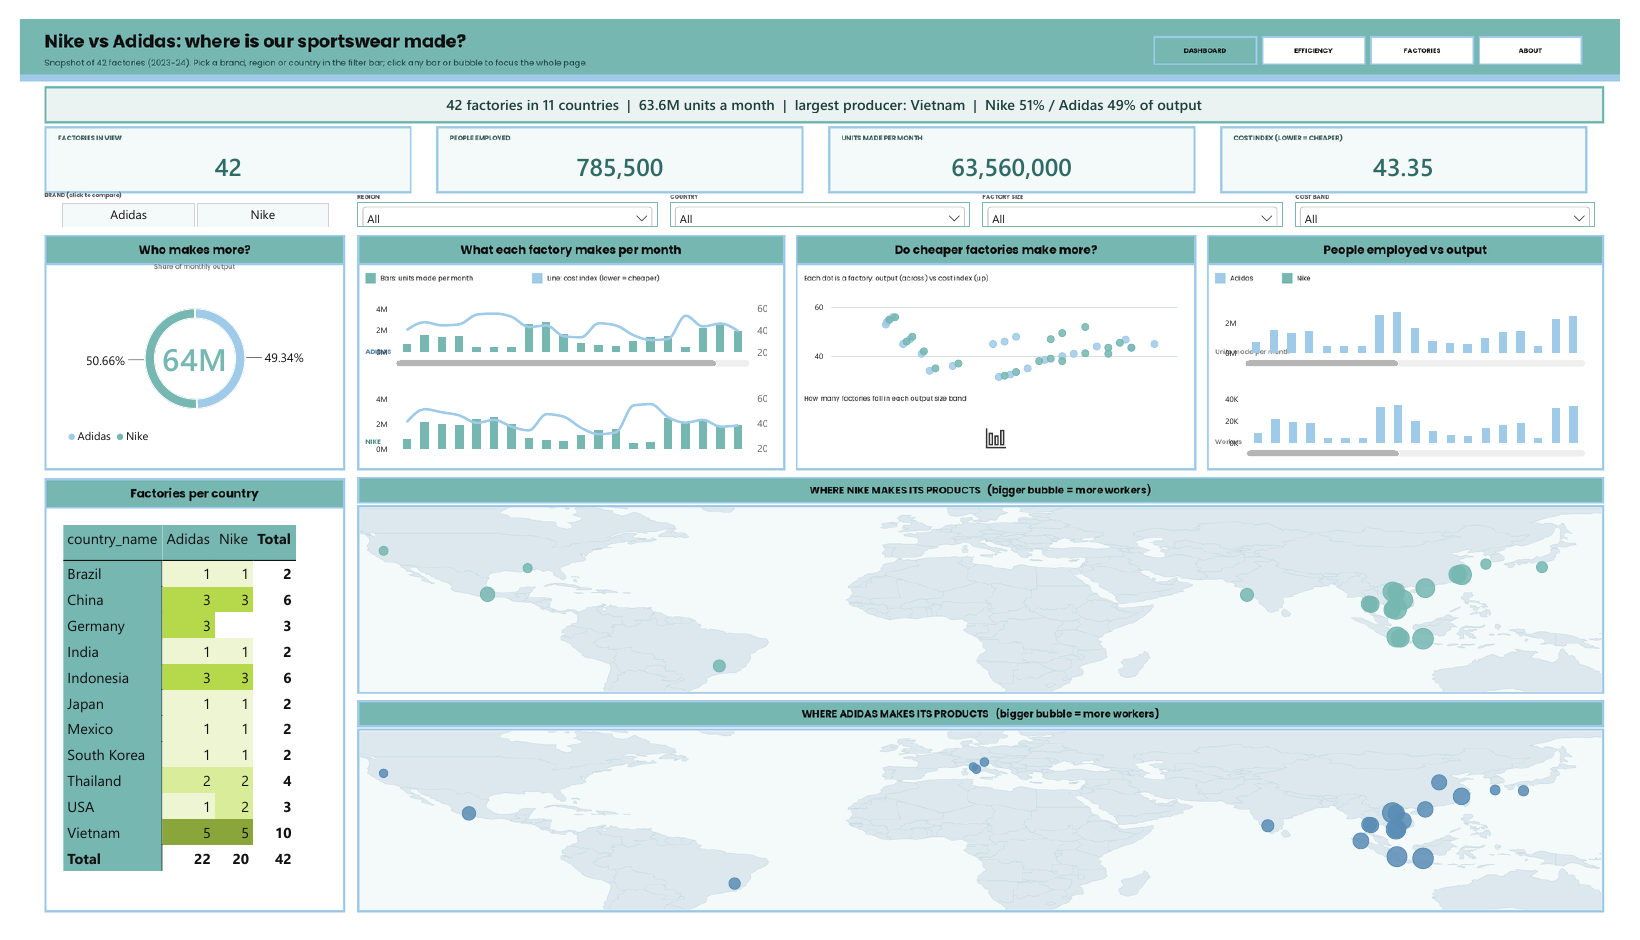

What the dashboard file says about the page in this screenshot:
{"tool":"powerbi","page":{"name":"Dashboard","canvas":[1920,1080],"ordinal":0},"visuals":[{"type":"card","fields":{"Values":["fact_factory_snapshot.Insight Text"]},"box":[40,80,1850,44],"z":1010},{"type":"card","fields":{"Values":["fact_factory_snapshot.Factories"]},"box":[40,150,420,56],"z":1020},{"type":"card","fields":{"Values":["fact_factory_snapshot.Total Workers"]},"box":[510,150,420,56],"z":1030},{"type":"card","fields":{"Values":["fact_factory_snapshot.Monthly Output"]},"box":[980,150,420,56],"z":1040},{"type":"card","fields":{"Values":["fact_factory_snapshot.Avg Cost Index"]},"box":[1450,150,420,56],"z":1050},{"type":"donutChart","fields":{"Category":["dim_brand.brand_name"],"Y":["fact_factory_snapshot.Monthly Output"]},"box":[40,314,340,216],"z":1110},{"type":"lineClusteredColumnComboChart","fields":{"Category":["dim_factory.factory_code"],"Y":["fact_factory_snapshot.Monthly Output"],"Y2":["fact_factory_snapshot.Avg Cost Index"]},"box":[411,324,501,108],"z":1120},{"type":"lineClusteredColumnComboChart","fields":{"Category":["dim_factory.factory_code"],"Y":["fact_factory_snapshot.Monthly Output"],"Y2":["fact_factory_snapshot.Avg Cost Index"]},"box":[411,432,501,108],"z":1130},{"type":"scatterChart","fields":{"Category":["dim_factory.factory_code"],"X":["fact_factory_snapshot.Monthly Output"],"Y":["fact_factory_snapshot.Avg Cost Index"],"Series":["dim_brand.brand_name"]},"box":[937,322,468,128],"z":1140},{"type":"columnChart","fields":{"Category":["fact_factory_snapshot.Output Bin"],"Series":["dim_brand.brand_name"],"Y":["fact_factory_snapshot.Factories"]},"box":[937,470,468,66],"z":1150},{"type":"columnChart","fields":{"Category":["dim_factory.factory_code"],"Series":["dim_brand.brand_name"],"Y":["fact_factory_snapshot.Monthly Output"]},"box":[1430,324,464,108],"z":1160},{"type":"columnChart","fields":{"Category":["dim_factory.factory_code"],"Series":["dim_brand.brand_name"],"Y":["fact_factory_snapshot.Total Workers"]},"box":[1430,432,464,108],"z":1170},{"type":"pivotTable","fields":{"Rows":["dim_country.country_name"],"Columns":["dim_brand.brand_name"],"Values":["fact_factory_snapshot.Factories"]},"box":[36,592,348,472],"z":1180},{"type":"scatterChart","fields":{"Category":["dim_factory.factory_code"],"X":["fact_factory_snapshot.Avg Longitude"],"Y":["fact_factory_snapshot.Avg Latitude"],"Size":["fact_factory_snapshot.Total Workers"]},"box":[408,585,1489,220],"z":1190},{"type":"scatterChart","fields":{"Category":["dim_factory.factory_code"],"X":["fact_factory_snapshot.Avg Longitude"],"Y":["fact_factory_snapshot.Avg Latitude"],"Size":["fact_factory_snapshot.Total Workers"]},"box":[408,853,1489,214],"z":1200},{"type":"slicer","fields":{"Values":["dim_brand.brand_name"]},"box":[30,218,360,30],"z":7005},{"type":"slicer","fields":{"Values":["dim_country.region"]},"box":[405,218,360,30],"z":7006},{"type":"slicer","fields":{"Values":["dim_country.country_name"]},"box":[780,218,360,30],"z":7007},{"type":"slicer","fields":{"Values":["fact_factory_snapshot.size_tier"]},"box":[1155,218,360,30],"z":7008},{"type":"slicer","fields":{"Values":["fact_factory_snapshot.cost_band"]},"box":[1530,218,360,30],"z":7009},{"type":"actionButton","box":[1360,20,124,34],"z":9020},{"type":"actionButton","box":[1490,20,124,34],"z":9021},{"type":"actionButton","box":[1620,20,124,34],"z":9022},{"type":"actionButton","box":[1750,20,124,34],"z":9023}]}

Visuals, with their boxes in screenshot pixels (x1, y1, x2, y2), scaled from the page's 1920x1080 canvas onto the 1640x940 screenshot:
card - fact_factory_snapshot.Insight Text: (left=34, top=70, right=1614, bottom=108)
card - fact_factory_snapshot.Factories: (left=34, top=131, right=393, bottom=179)
card - fact_factory_snapshot.Total Workers: (left=436, top=131, right=794, bottom=179)
card - fact_factory_snapshot.Monthly Output: (left=837, top=131, right=1196, bottom=179)
card - fact_factory_snapshot.Avg Cost Index: (left=1239, top=131, right=1597, bottom=179)
donutChart - dim_brand.brand_name x fact_factory_snapshot.Monthly Output: (left=34, top=273, right=325, bottom=461)
lineClusteredColumnComboChart - dim_factory.factory_code x fact_factory_snapshot.Monthly Output: (left=351, top=282, right=779, bottom=376)
lineClusteredColumnComboChart - dim_factory.factory_code x fact_factory_snapshot.Monthly Output: (left=351, top=376, right=779, bottom=470)
scatterChart - dim_factory.factory_code x fact_factory_snapshot.Monthly Output: (left=800, top=280, right=1200, bottom=392)
columnChart - fact_factory_snapshot.Output Bin x dim_brand.brand_name: (left=800, top=409, right=1200, bottom=467)
columnChart - dim_factory.factory_code x dim_brand.brand_name: (left=1221, top=282, right=1618, bottom=376)
columnChart - dim_factory.factory_code x dim_brand.brand_name: (left=1221, top=376, right=1618, bottom=470)
pivotTable - dim_country.country_name x dim_brand.brand_name: (left=31, top=515, right=328, bottom=926)
scatterChart - dim_factory.factory_code x fact_factory_snapshot.Avg Longitude: (left=348, top=509, right=1620, bottom=701)
scatterChart - dim_factory.factory_code x fact_factory_snapshot.Avg Longitude: (left=348, top=742, right=1620, bottom=929)
slicer - dim_brand.brand_name: (left=26, top=190, right=333, bottom=216)
slicer - dim_country.region: (left=346, top=190, right=653, bottom=216)
slicer - dim_country.country_name: (left=666, top=190, right=974, bottom=216)
slicer - fact_factory_snapshot.size_tier: (left=987, top=190, right=1294, bottom=216)
slicer - fact_factory_snapshot.cost_band: (left=1307, top=190, right=1614, bottom=216)
actionButton: (left=1162, top=17, right=1268, bottom=47)
actionButton: (left=1273, top=17, right=1379, bottom=47)
actionButton: (left=1384, top=17, right=1490, bottom=47)
actionButton: (left=1495, top=17, right=1601, bottom=47)
